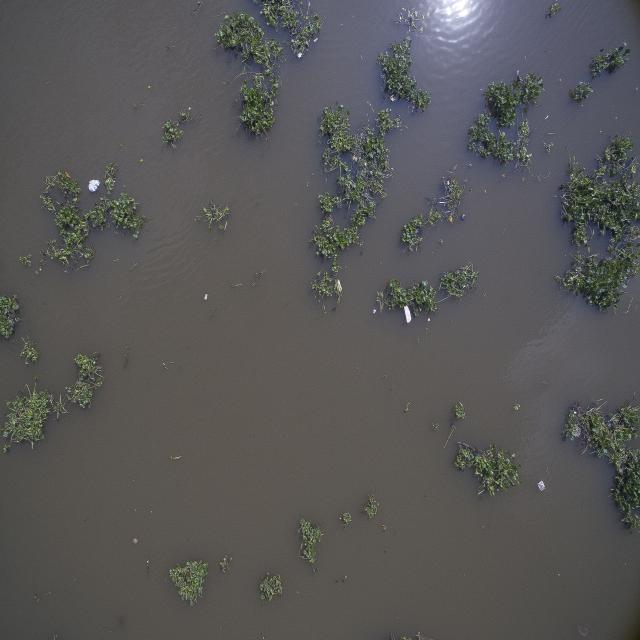plastic: (398, 295, 416, 332), (82, 175, 110, 198), (333, 276, 352, 306), (534, 473, 552, 498), (292, 45, 308, 66)
